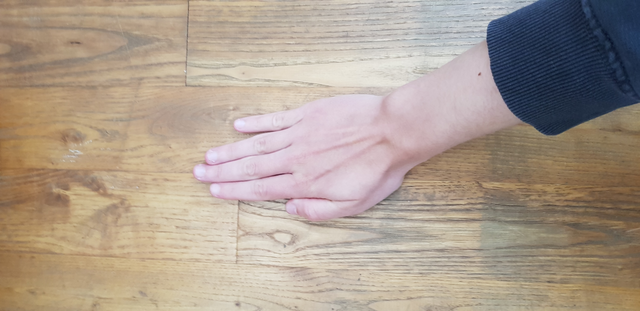Paper: (184, 90, 427, 243)
